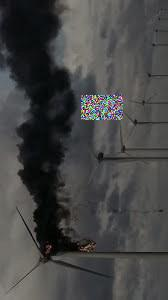faulty: (11, 201, 113, 285)
